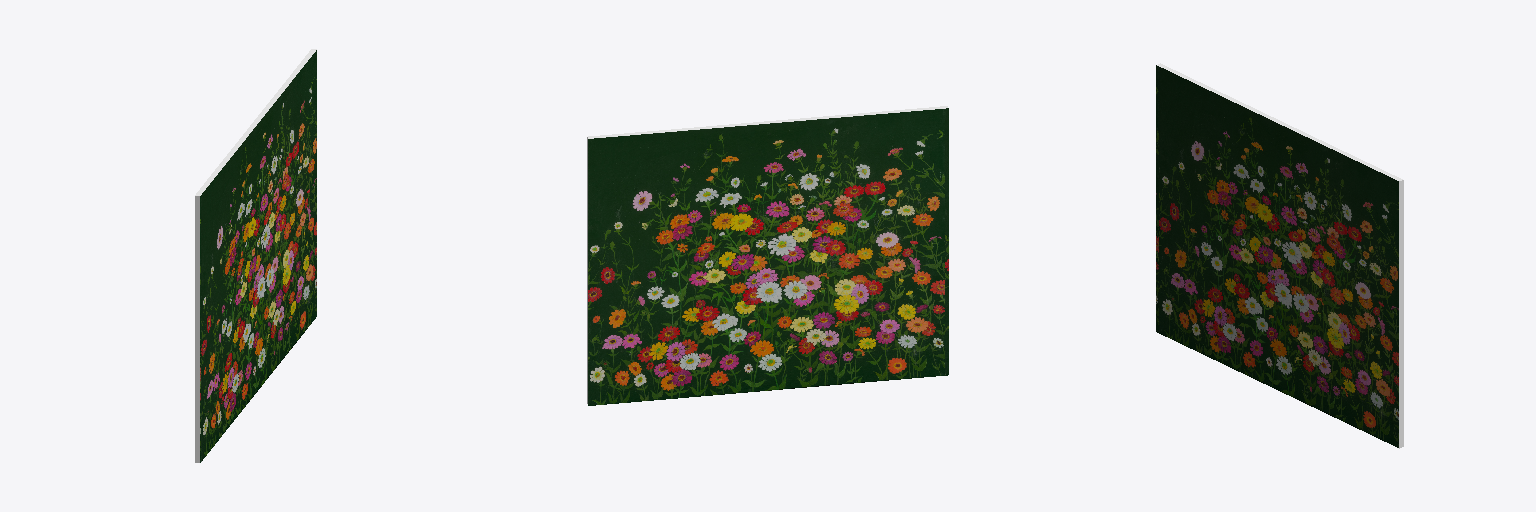
3 renders of one model, left to right at view 1: azimuth 30°, elevation 25°; view 2: azimuth 150°, elevation 25°; view 3: azimuth 270°, elevation 25°, orthographic.
Parts seen in each view (by area): view 1: Mesh1 Model; view 2: Mesh1 Model; view 3: Mesh1 Model.
Part boxes in pixels (x1,y1,x2,y2): Mesh1 Model: (195, 49, 316, 462); Mesh1 Model: (587, 106, 948, 405); Mesh1 Model: (1156, 63, 1403, 448).
Bounding box in the file's own units: 1.44 × 1.52 × 1.27.
2 materials, 1 textured.